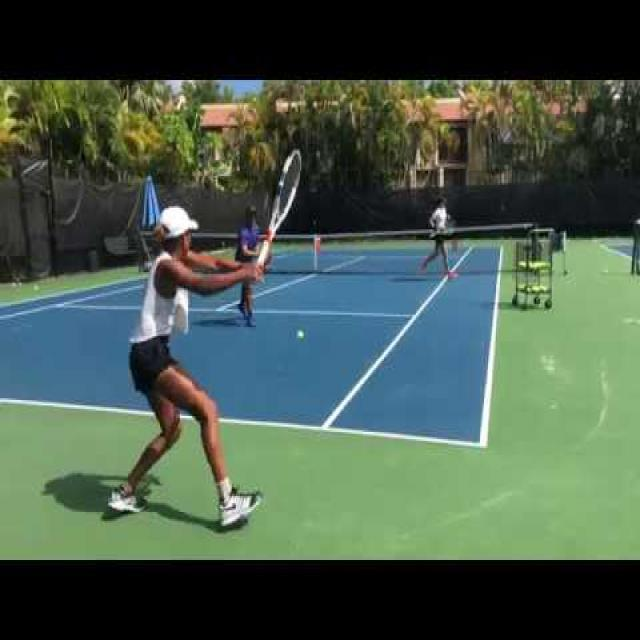court: (0, 274, 581, 480)
net: (131, 222, 558, 275)
player: (107, 146, 302, 526)
